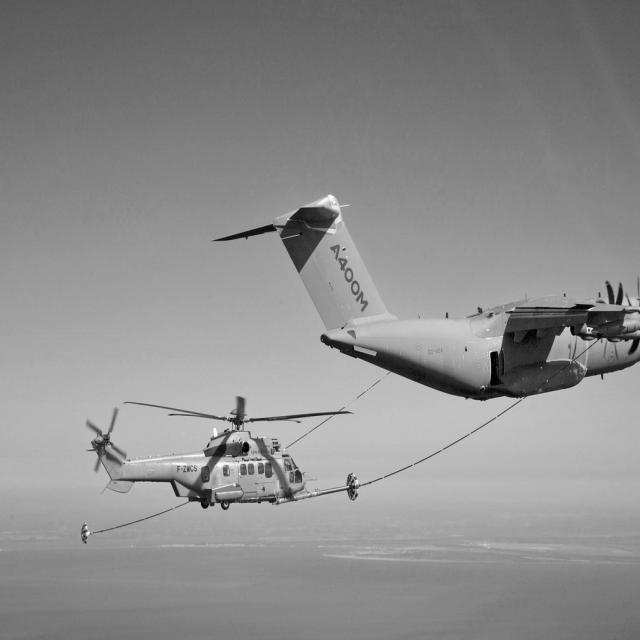helicopter: (77, 389, 366, 519)
